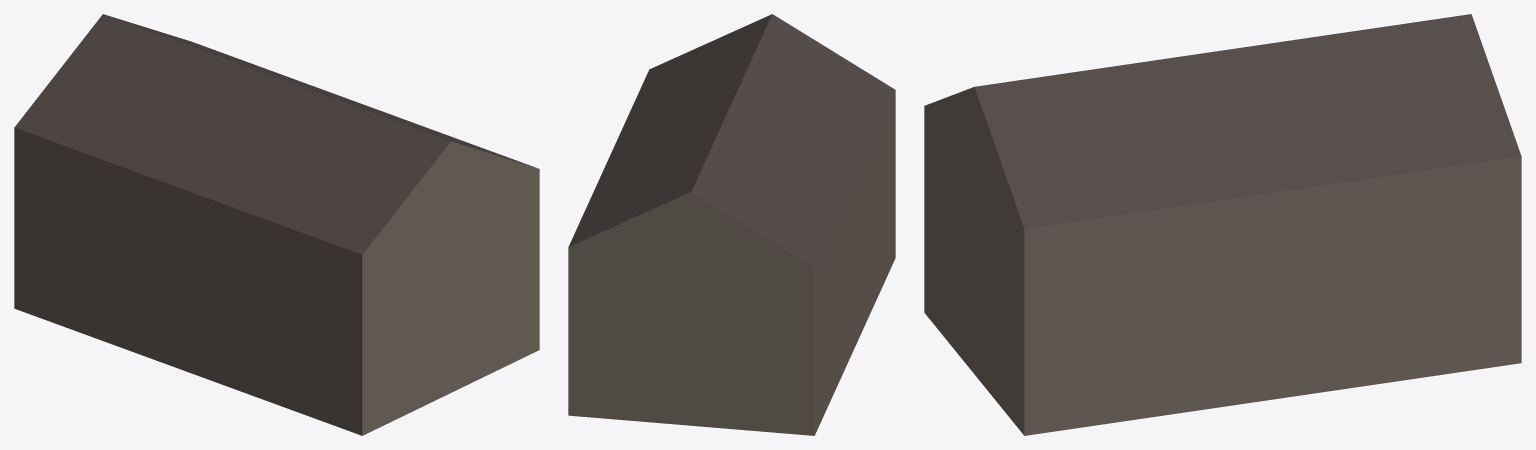
3 views of the same model, side by side, from view 1: azimuth 30°, elevation 25°; view 2: azimuth 150°, elevation 25°; view 3: azimuth 270°, elevation 25° (orthographic). The views are drawn at different scales.
Parts seen in each view (by area): view 1: HP-w1376988804; view 2: HP-w1376988804; view 3: HP-w1376988804.
Boxes of the visible parts, x1=… form: HP-w1376988804: x1=14, y1=14, x2=539, y2=435; HP-w1376988804: x1=568, y1=14, x2=895, y2=435; HP-w1376988804: x1=924, y1=14, x2=1521, y2=435.
Size of the model in its own units: 12.19 by 8.34 by 15.69.
